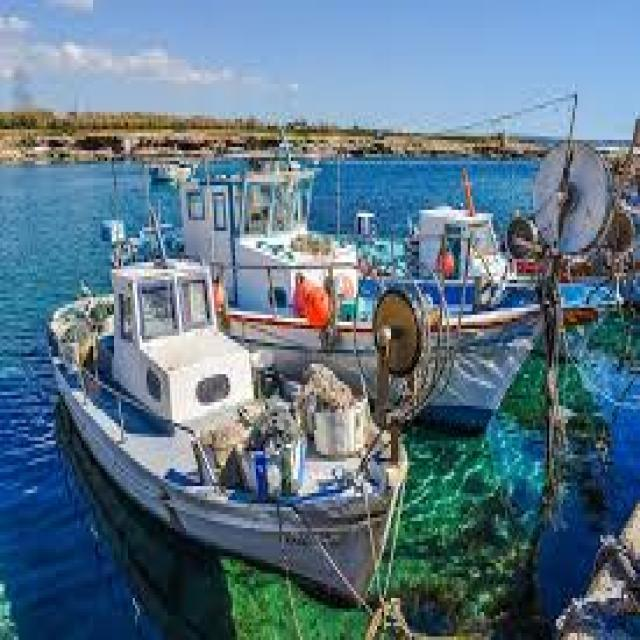Ship: (43, 236, 425, 606), (138, 131, 569, 439)
